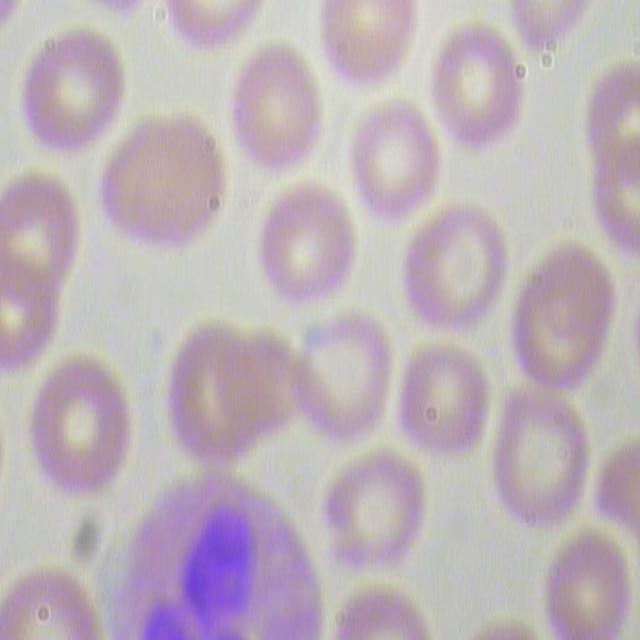RBC: (96, 117, 232, 263), (26, 346, 135, 501), (24, 15, 133, 170), (488, 383, 597, 538), (509, 247, 618, 401), (406, 200, 508, 340), (258, 182, 360, 322), (232, 42, 334, 182), (323, 452, 432, 580), (288, 318, 397, 446), (432, 23, 527, 154), (347, 96, 442, 226), (398, 337, 493, 467)
WBC: (104, 468, 327, 640)
